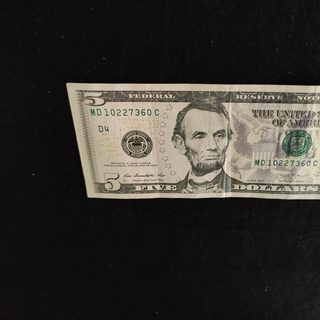5USDFront: (64, 82, 320, 200)
